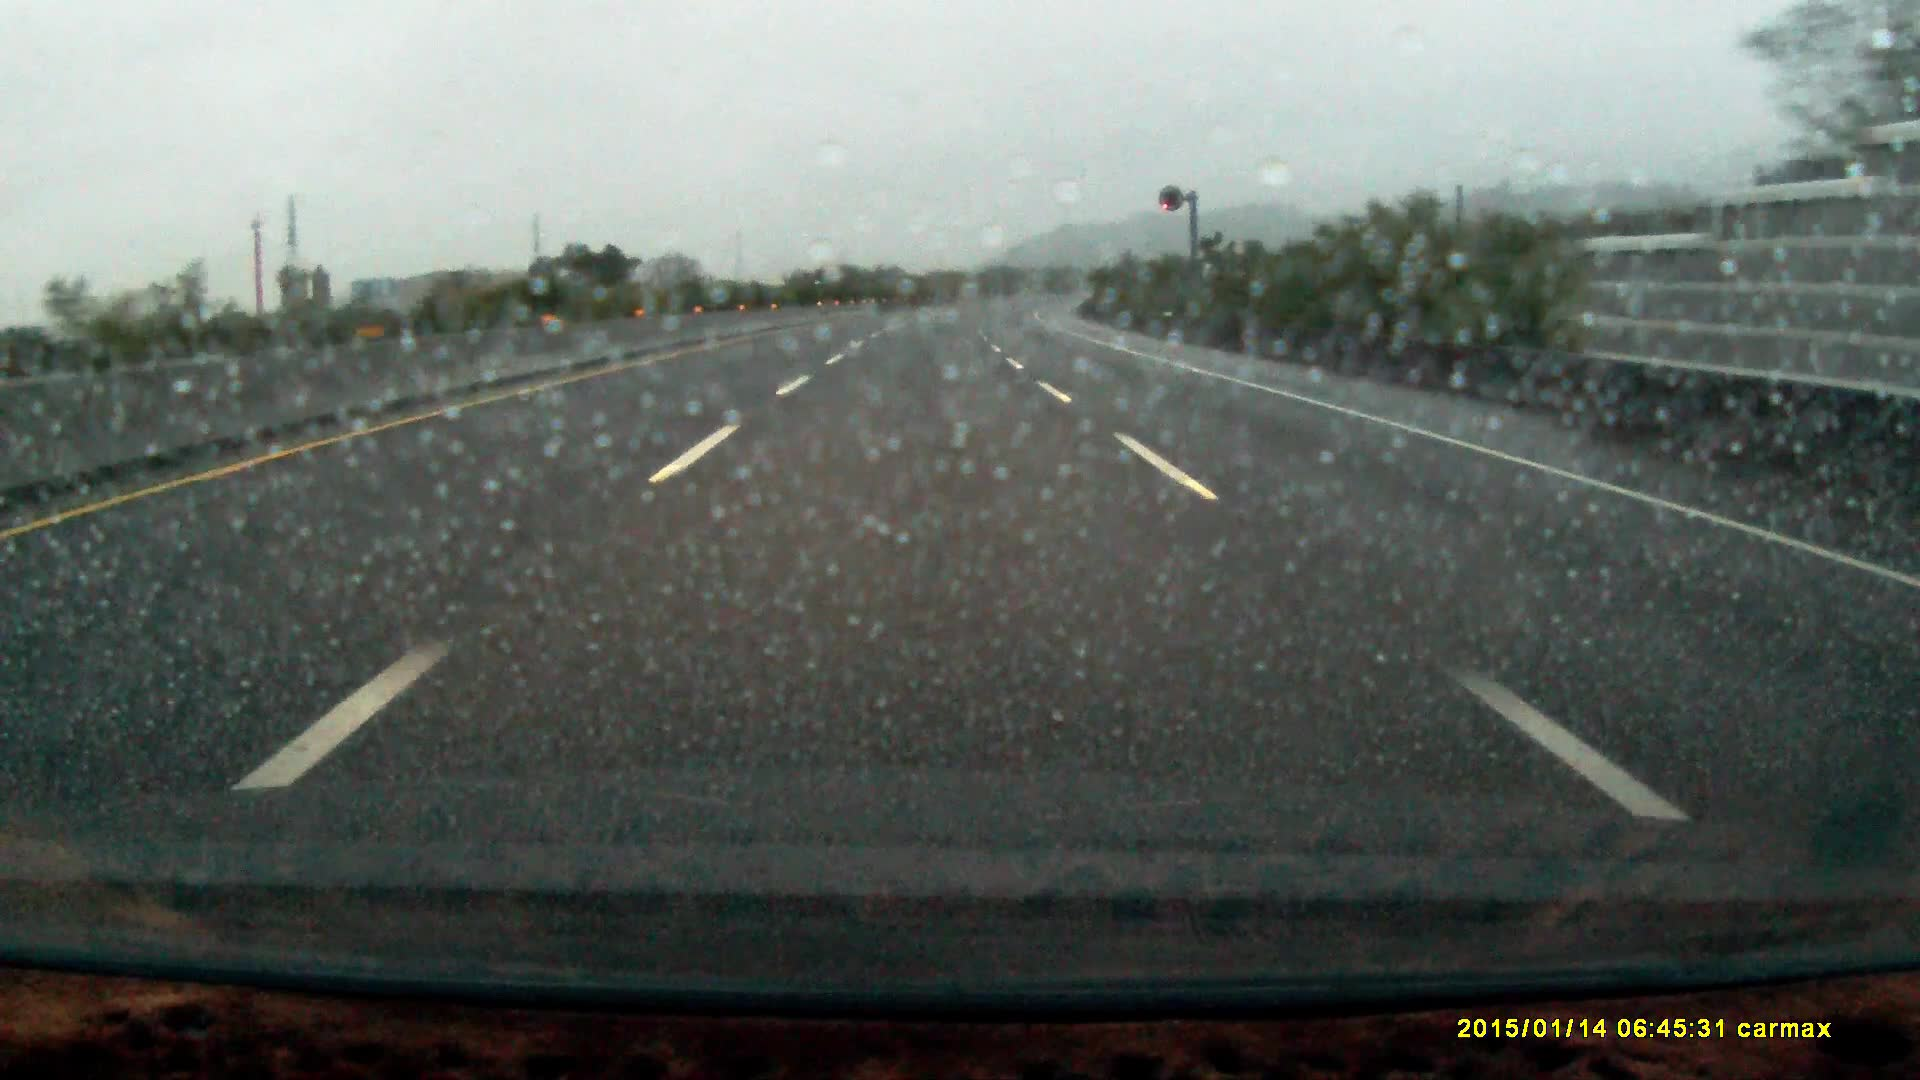vehicle: (812, 268, 852, 305)
